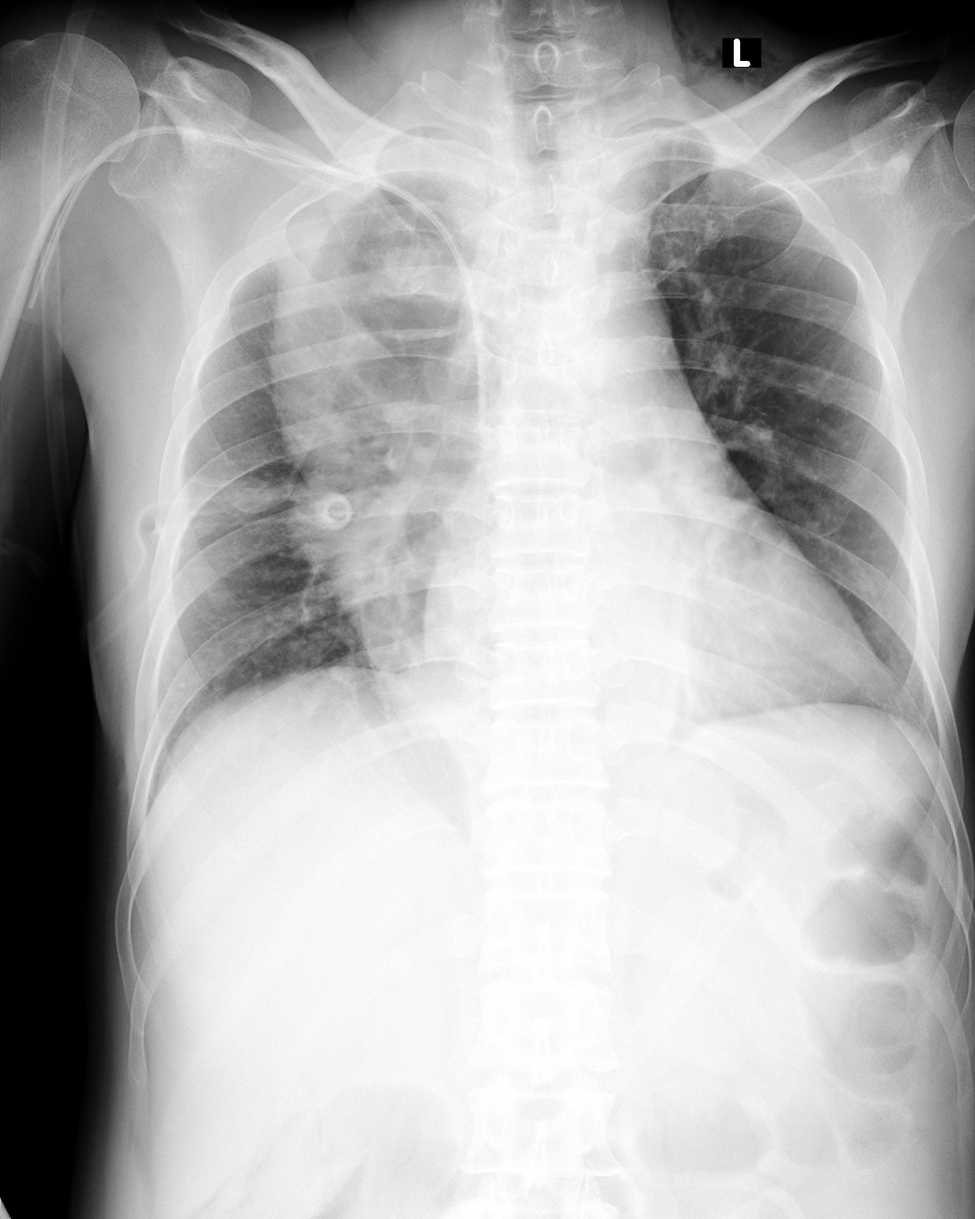Pulmonary fibrosis: (175, 465, 386, 530)
